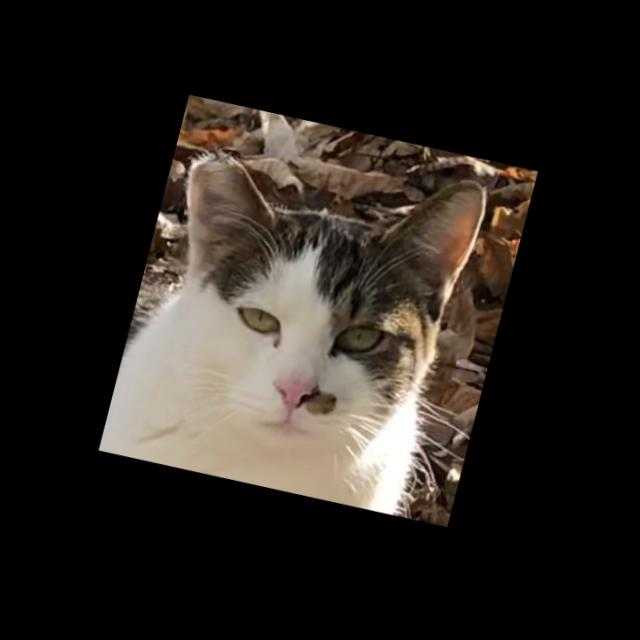animals: (116, 107, 504, 511)
